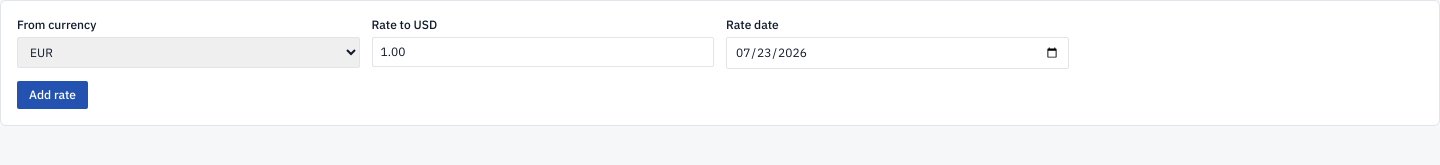
Test case: ExchangeRateForm › shows an error instead of silence when the action fails
Click the button "Add rate" at (52, 95), box [17,81,88,109]
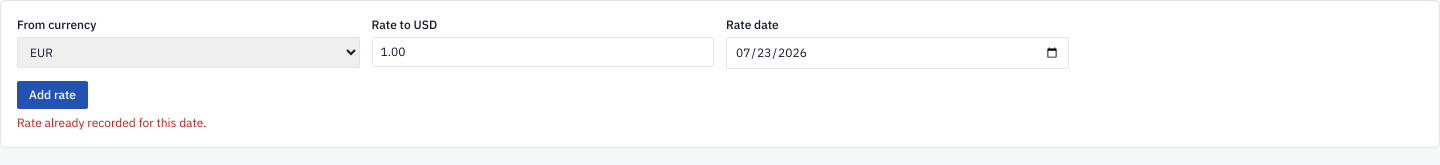
Result: the text "Rate already recorded for this date." is shown at [17,115,206,130]
